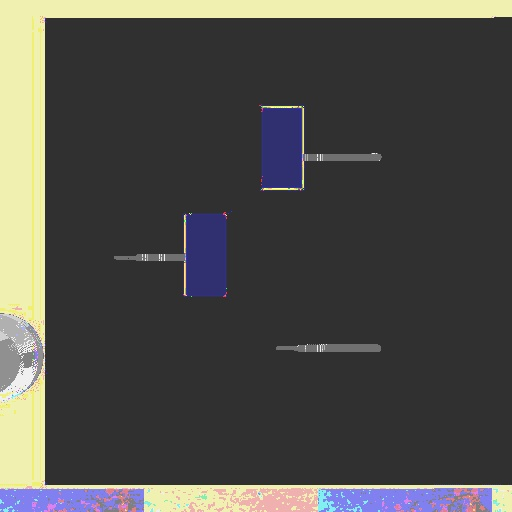bisturi: (270, 340, 390, 357), (303, 149, 387, 166), (110, 250, 185, 266)
